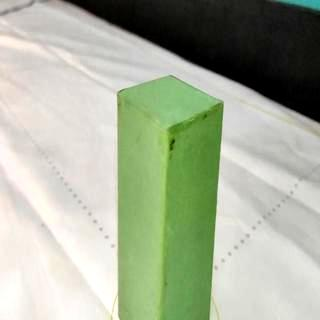greenbox: (116, 73, 224, 320)
